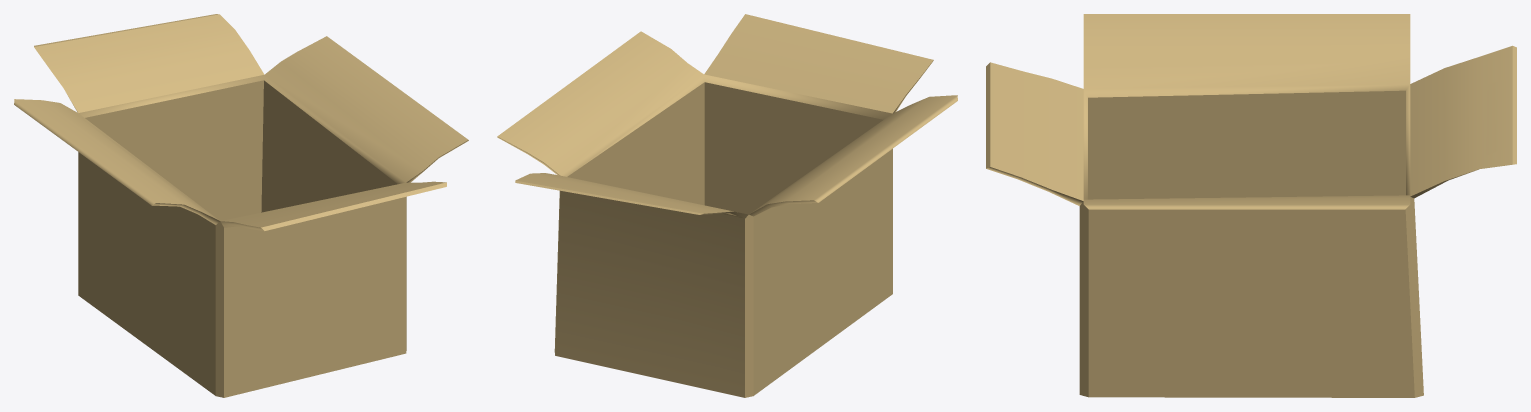
The model's file is moving box 1.fbx.
3 views of the same model, side by side, from view 1: azimuth 30°, elevation 25°; view 2: azimuth 150°, elevation 25°; view 3: azimuth 270°, elevation 25° (orthographic). The views are drawn at different scales.
Visible parts, largest first — view 1: pCube55; view 2: pCube55; view 3: pCube55.
Part boxes in pixels (x1,y1,x2,y2): pCube55: [14, 14, 468, 397]; pCube55: [497, 14, 957, 397]; pCube55: [986, 14, 1516, 397].
Bounding box in the file's own units: 1.07 × 0.6963 × 1.35.
